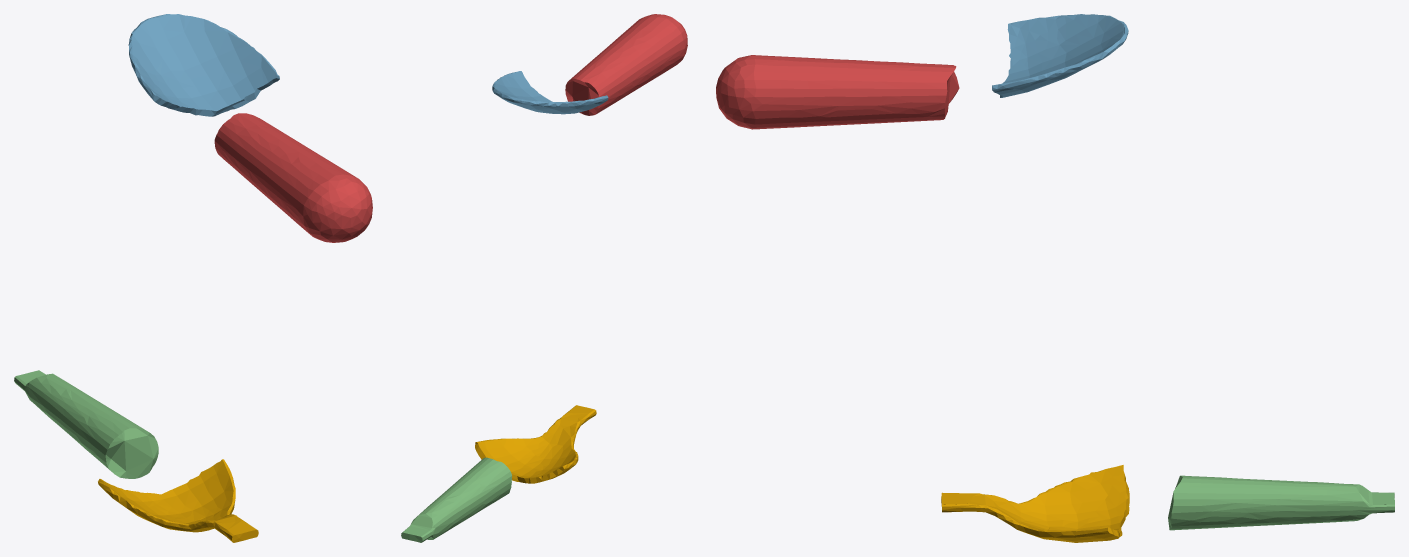
The model's file is mode_3_4pcs_transformed.glb.
The picture shows the model from 3 angles, left to right: view 1: azimuth 30°, elevation 25°; view 2: azimuth 150°, elevation 25°; view 3: azimuth 270°, elevation 25°; orthographic projection. The views are drawn at different scales.
Parts seen in each view (by area): view 1: piece_2.obj, piece_1.obj, piece_3.obj, piece_0.obj; view 2: piece_1.obj, piece_0.obj, piece_3.obj, piece_2.obj; view 3: piece_1.obj, piece_3.obj, piece_0.obj, piece_2.obj.
Boxes of the visible parts, x1,y1,x2,y2 form: piece_2.obj: [128, 14, 279, 116]; piece_1.obj: [214, 113, 372, 242]; piece_3.obj: [14, 370, 158, 478]; piece_0.obj: [98, 459, 258, 542]; piece_1.obj: [565, 14, 687, 115]; piece_0.obj: [475, 405, 596, 483]; piece_3.obj: [401, 457, 511, 542]; piece_2.obj: [492, 71, 608, 114]; piece_1.obj: [716, 55, 959, 129]; piece_3.obj: [1168, 475, 1394, 530]; piece_0.obj: [941, 465, 1129, 542]; piece_2.obj: [992, 14, 1128, 97].
Size of the model in its own units: 0.1912 by 0.7408 by 0.8994.
